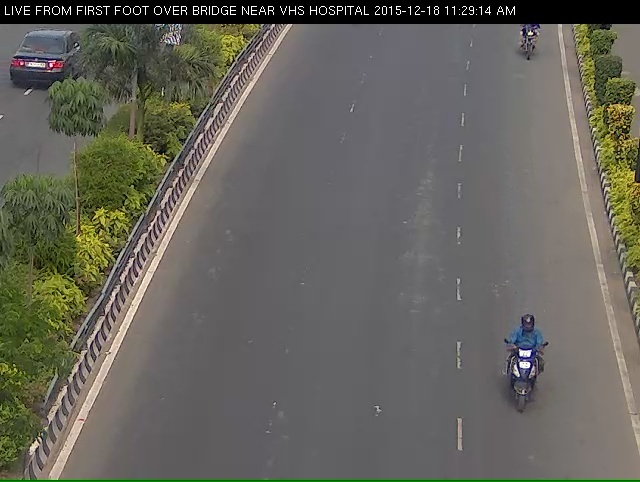Person: (500, 337, 550, 446)
